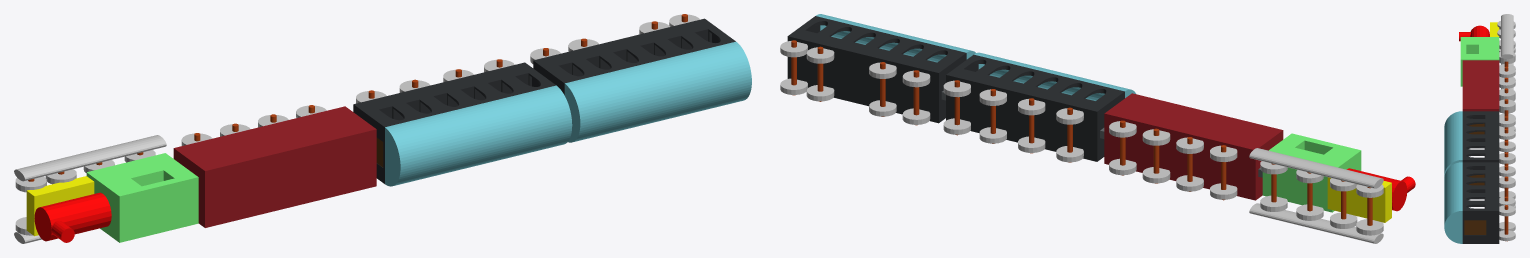
Rendered from tinker.obj.
The picture shows the model from 3 angles, left to right: view 1: azimuth 30°, elevation 25°; view 2: azimuth 150°, elevation 25°; view 3: azimuth 270°, elevation 25°; orthographic projection. The views are drawn at different scales.
Visible parts, largest first — view 1: group_0_7720667, group_0_9771553, group_0_2829873, group_0_7798650, group_0_0, group_0_16711680, group_0_16776960, group_0_12009742; view 2: group_0_2829873, group_0_0, group_0_9771553, group_0_7798650, group_0_12009742, group_0_7720667, group_0_16776960, group_0_16711680; view 3: group_0_2829873, group_0_0, group_0_7720667, group_0_9771553, group_0_7798650, group_0_6306067, group_0_12009742, group_0_16711680, group_0_16776960.
Part boxes in pixels (x1,y1,x2,y2): group_0_7720667: [385, 41, 751, 186]; group_0_9771553: [173, 106, 376, 227]; group_0_2829873: [353, 18, 735, 183]; group_0_7798650: [86, 153, 198, 242]; group_0_0: [14, 14, 699, 243]; group_0_16711680: [34, 192, 111, 242]; group_0_16776960: [26, 176, 94, 236]; group_0_12009742: [28, 14, 687, 181]; group_0_2829873: [787, 16, 1124, 161]; group_0_0: [780, 41, 1383, 243]; group_0_9771553: [1104, 93, 1283, 200]; group_0_7798650: [1262, 133, 1361, 212]; group_0_12009742: [791, 40, 1372, 225]; group_0_7720667: [816, 14, 1135, 100]; group_0_16776960: [1327, 177, 1391, 222]; group_0_16711680: [1347, 168, 1415, 211]; group_0_2829873: [1462, 111, 1499, 243]; group_0_0: [1497, 14, 1515, 241]; group_0_7720667: [1444, 111, 1462, 243]; group_0_9771553: [1462, 60, 1499, 111]; group_0_7798650: [1460, 37, 1499, 86]; group_0_6306067: [1464, 123, 1486, 234]; group_0_12009742: [1504, 61, 1508, 241]; group_0_16711680: [1459, 25, 1489, 41]; group_0_16776960: [1490, 22, 1499, 36].
Size of the model in its own units: 250 by 25 by 39.
